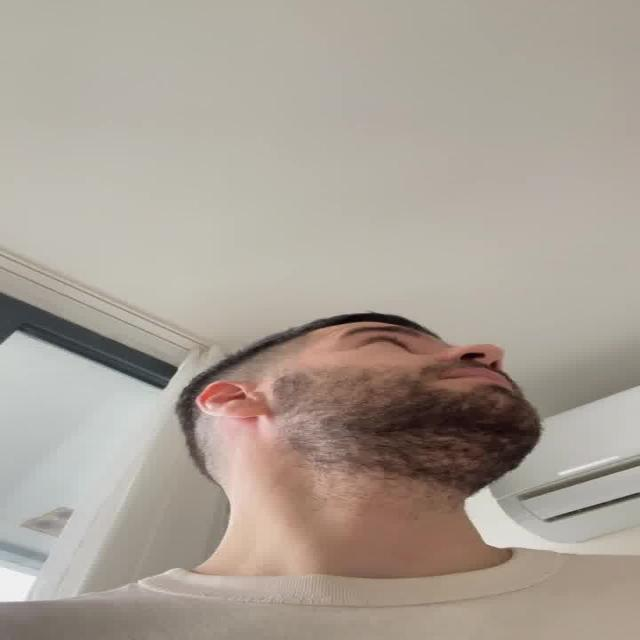earlobe: (195, 381, 264, 418)
